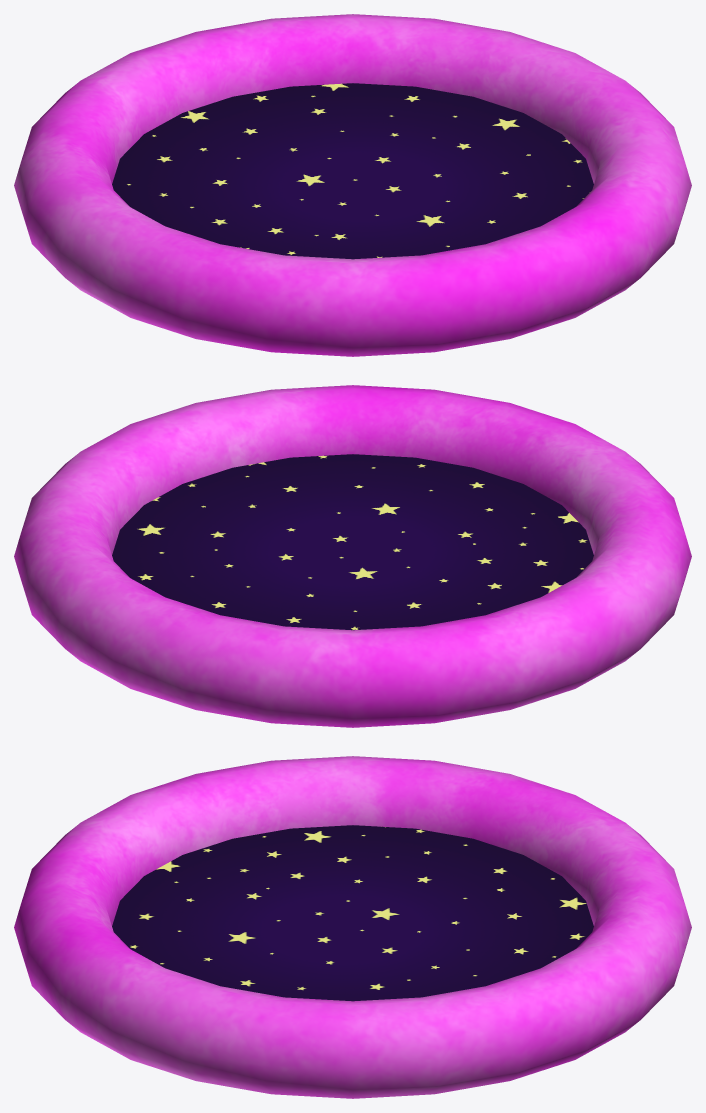
File: SM_GoalPortal.glb
3 renders of one model, top to bottom at view 1: azimuth 30°, elevation 25°; view 2: azimuth 150°, elevation 25°; view 3: azimuth 270°, elevation 25°, orthographic.
Visible parts, largest first — view 1: Portal-col, PortalPlane; view 2: Portal-col, PortalPlane; view 3: Portal-col, PortalPlane.
Boxes of the visible parts, x1,y1,x2,y2 form: Portal-col: (14, 14, 691, 356); PortalPlane: (112, 83, 593, 259); Portal-col: (14, 385, 691, 727); PortalPlane: (112, 454, 593, 630); Portal-col: (14, 756, 691, 1098); PortalPlane: (112, 825, 593, 1001).
Bounding box in the file's own units: 44.12 × 6.38 × 44.12.
2 materials, 2 textured.
